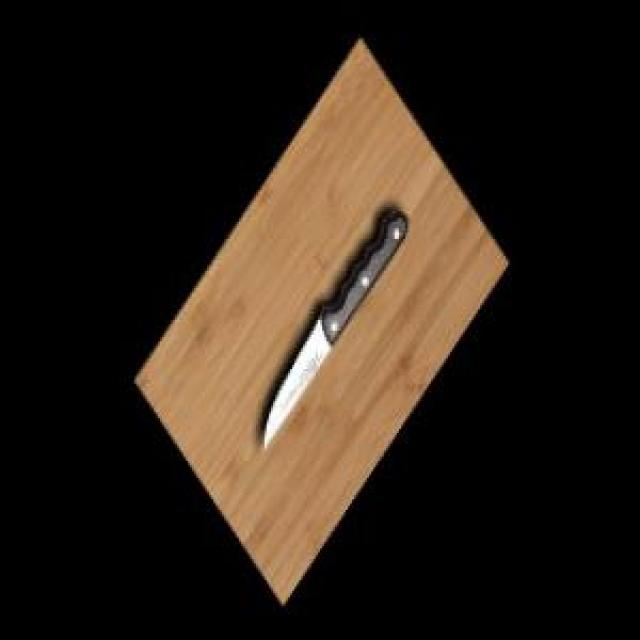knife: (258, 202, 411, 456)
